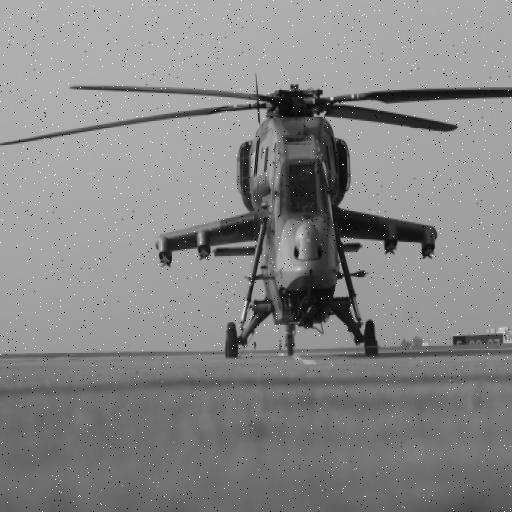helicopter: (18, 31, 512, 373)
